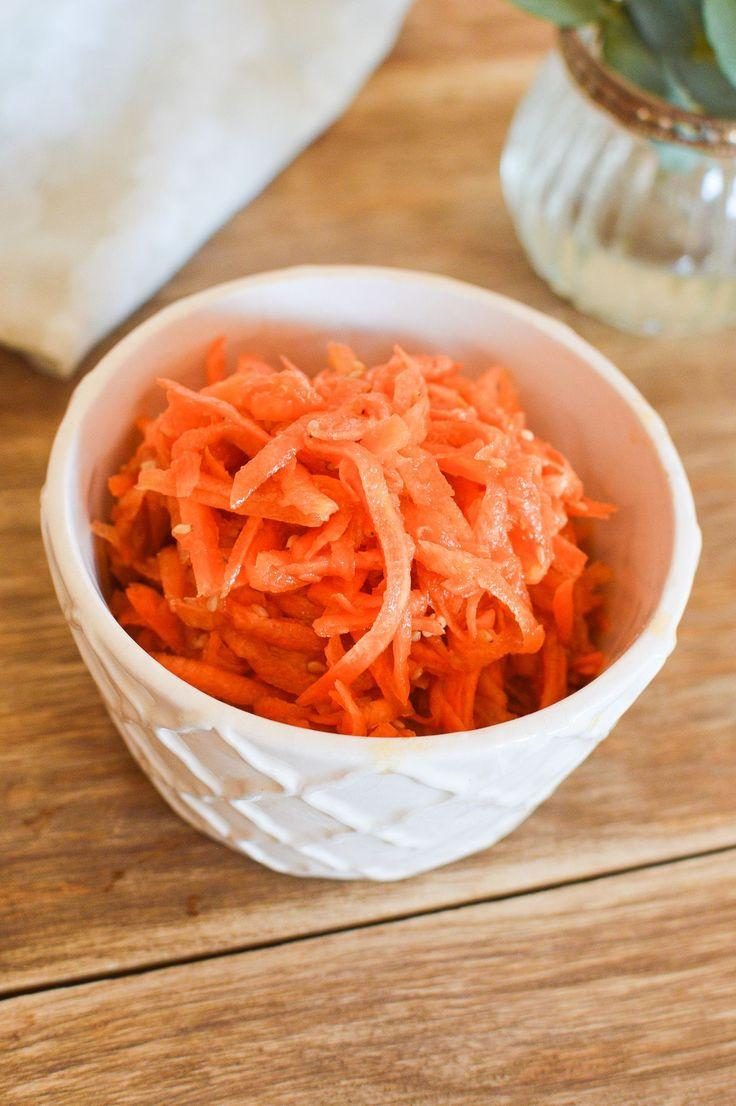buah_sayur_vitA: (195, 376, 514, 664)
